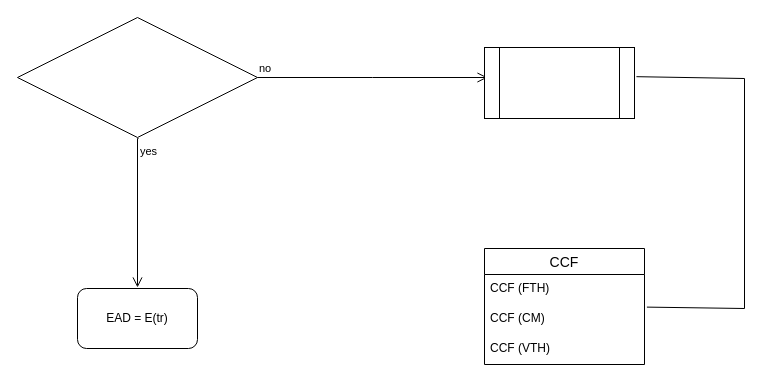
This 763x385 diagram has some shape labels left out. Each missing label, with the centre of its shape:
HD: None_revolving & Disbursement>Limit: point (137, 77)
Transform CCF: point (559, 82)
